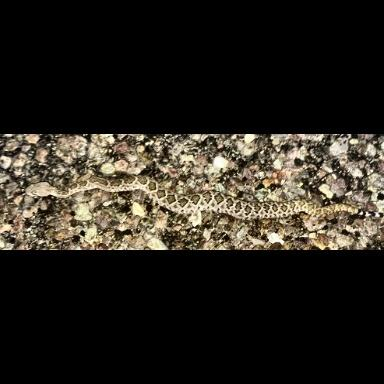snake: (26, 171, 361, 225)
